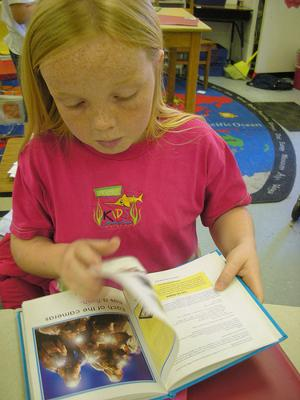person: (9, 1, 266, 314)
